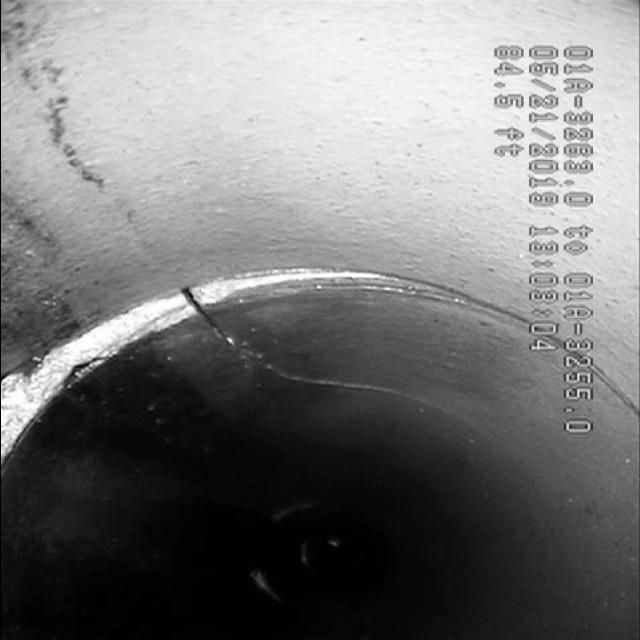Crack: (36, 138, 272, 336)
